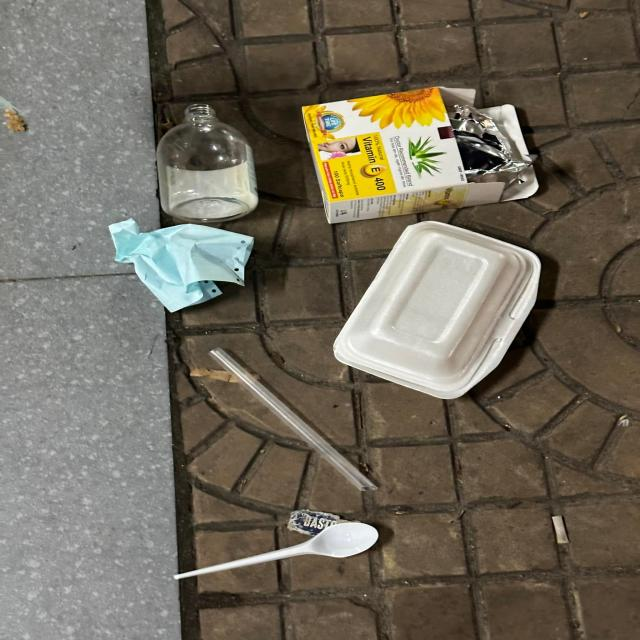bottle: (157, 106, 257, 221)
cardboard box: (303, 86, 537, 224)
drinking straw: (211, 348, 379, 494)
foam box: (334, 220, 542, 402)
paper: (110, 220, 254, 311)
plastic utensil: (174, 522, 378, 580)
